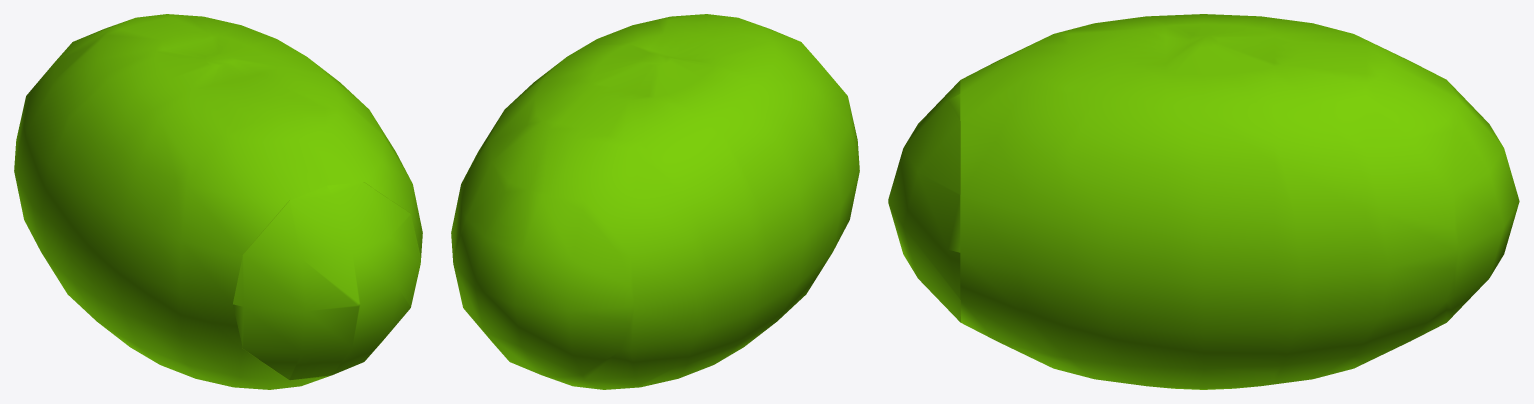
File: Mango.fbx
3 views of the same model, side by side, from view 1: azimuth 30°, elevation 25°; view 2: azimuth 150°, elevation 25°; view 3: azimuth 270°, elevation 25° (orthographic). The views are drawn at different scales.
Parts seen in each view (by area): view 1: polySurface368, polySurface367, polySurface369, polySurface370, polySurface371, polySurface372; view 2: polySurface372, polySurface366, polySurface371, polySurface370, polySurface369, polySurface368; view 3: polySurface370, polySurface369, polySurface371, polySurface368, polySurface372, polySurface367, polySurface366.
Part boxes in pixels (x1,y1,x2,y2): polySurface368: (144, 108, 422, 389); polySurface367: (232, 182, 420, 380); polySurface369: (87, 68, 402, 383); polySurface370: (42, 35, 353, 357); polySurface371: (19, 15, 266, 295); polySurface372: (14, 14, 184, 224); polySurface372: (451, 121, 710, 389); polySurface366: (453, 190, 634, 377); polySurface371: (465, 81, 768, 388); polySurface370: (509, 44, 819, 367); polySurface369: (587, 19, 849, 307); polySurface368: (657, 14, 859, 234); polySurface370: (1166, 14, 1274, 389); polySurface369: (1068, 15, 1165, 387); polySurface371: (1274, 18, 1366, 384); polySurface368: (960, 30, 1068, 372); polySurface372: (1366, 40, 1454, 362); polySurface367: (888, 80, 960, 321); polySurface366: (1454, 88, 1519, 314).
Size of the model in its own units: 7.59 by 7.12 by 12.29.
